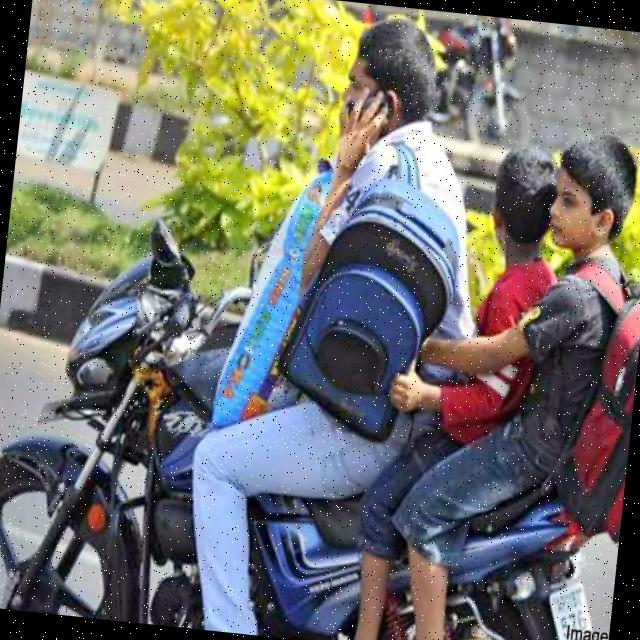Triple riding: (291, 21, 640, 507)
